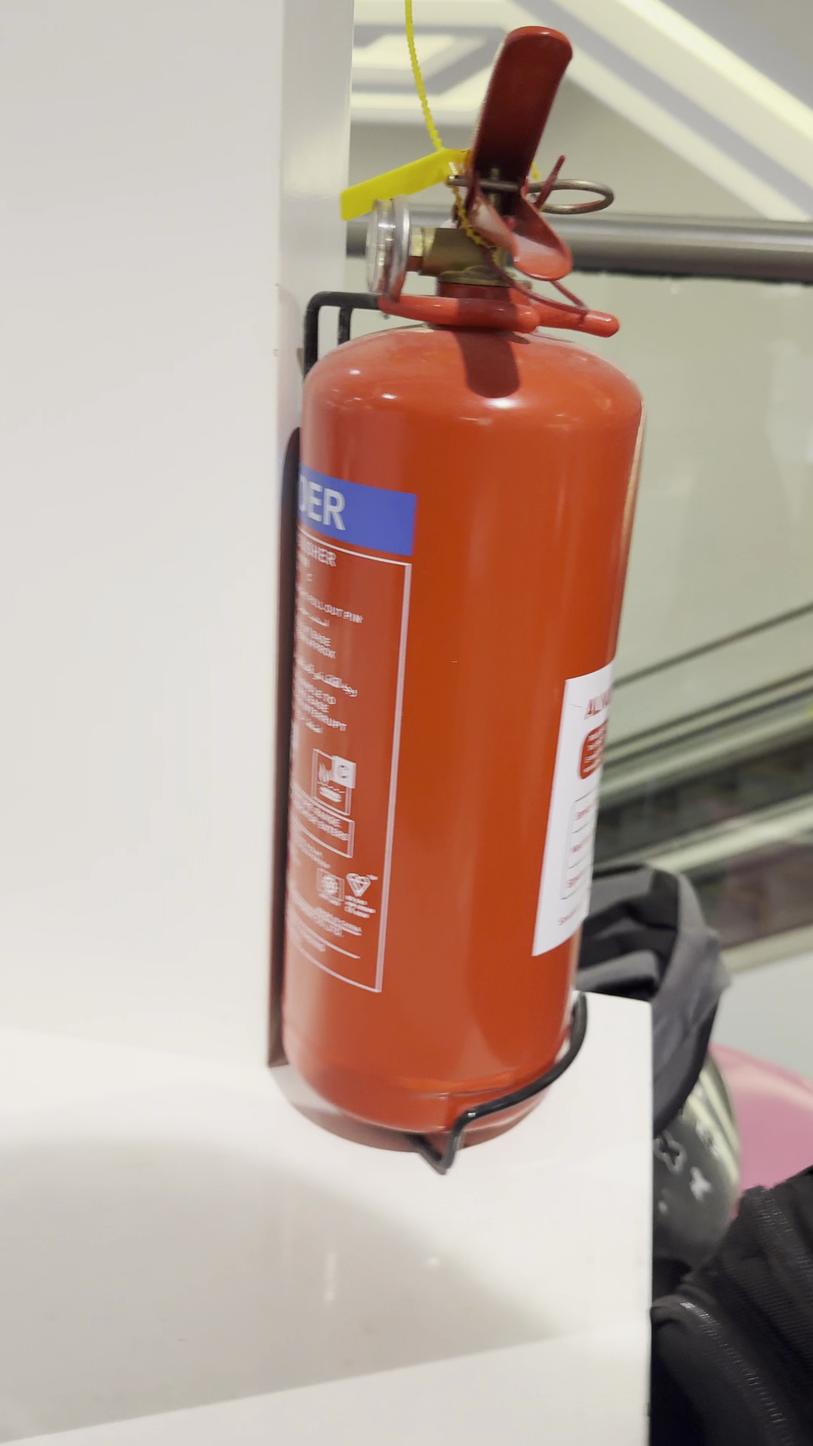fire_extinguisher: (266, 18, 647, 1173)
